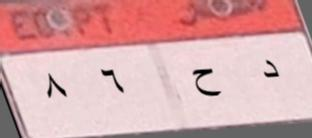6: (98, 64, 128, 102)
7aa: (185, 63, 225, 103)
8: (37, 70, 72, 105)
daal: (255, 55, 286, 87)
